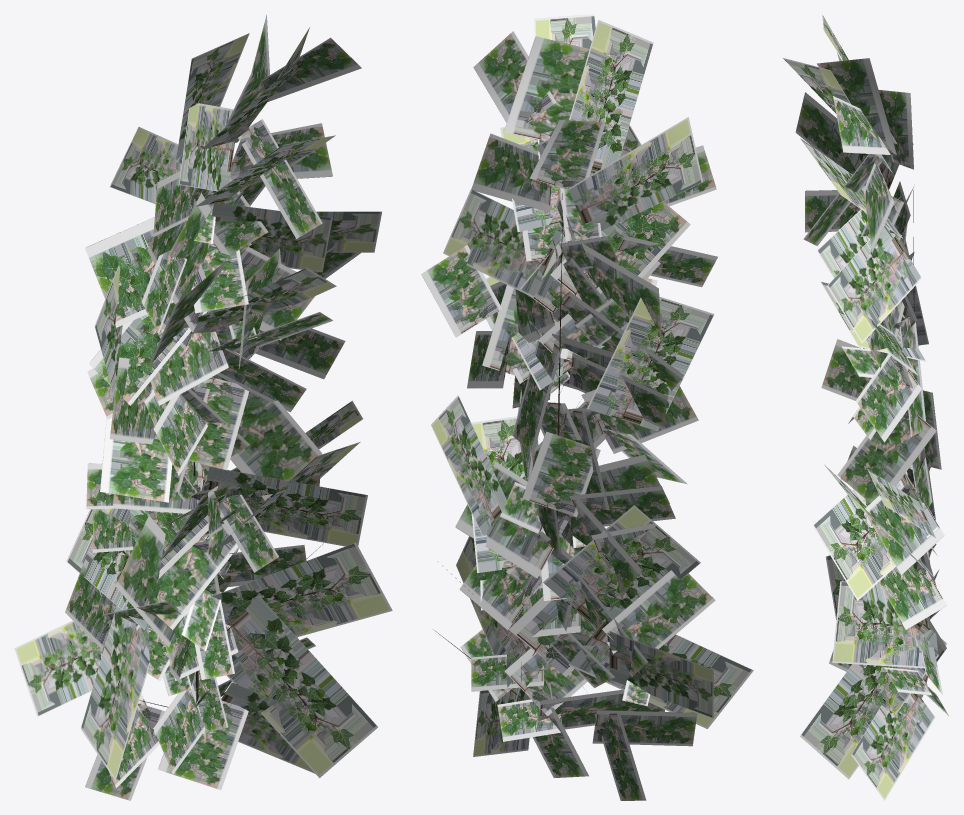
Rendered from Ivy5.fbx.
The picture shows the model from 3 angles, left to right: view 1: azimuth 30°, elevation 25°; view 2: azimuth 150°, elevation 25°; view 3: azimuth 270°, elevation 25°; orthographic projection. The views are drawn at different scales.
Parts seen in each view (by area): view 1: Ivy5; view 2: Ivy5; view 3: Ivy5.
Boxes of the visible parts, left/top/right/bottom form: Ivy5: left=14, top=14, right=392, bottom=800; Ivy5: left=421, top=14, right=753, bottom=800; Ivy5: left=783, top=14, right=948, bottom=800.
Bounding box in the file's own units: 195 × 443 × 92.48.
